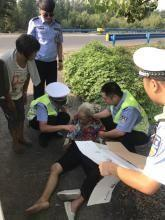Fall-Detected: (23, 94, 103, 219)
